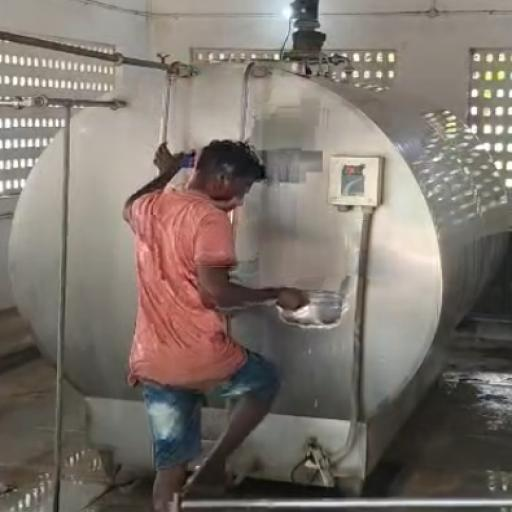silo: (8, 55, 511, 487)
vessel: (277, 290, 346, 329)
